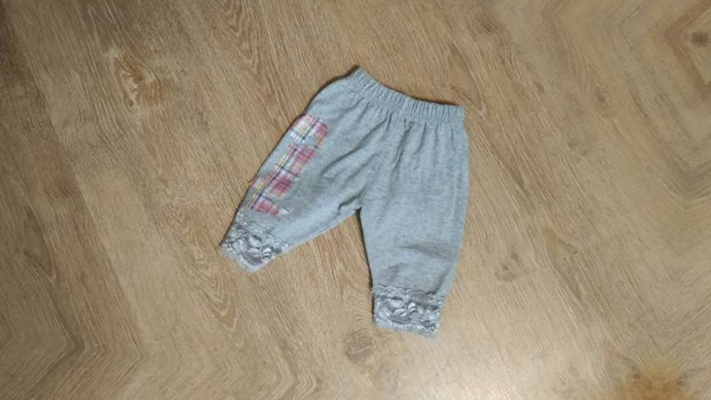Pants: (198, 51, 496, 355)
